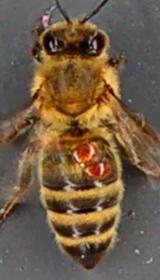varroa_mite: (82, 158, 111, 179), (65, 141, 98, 159)
